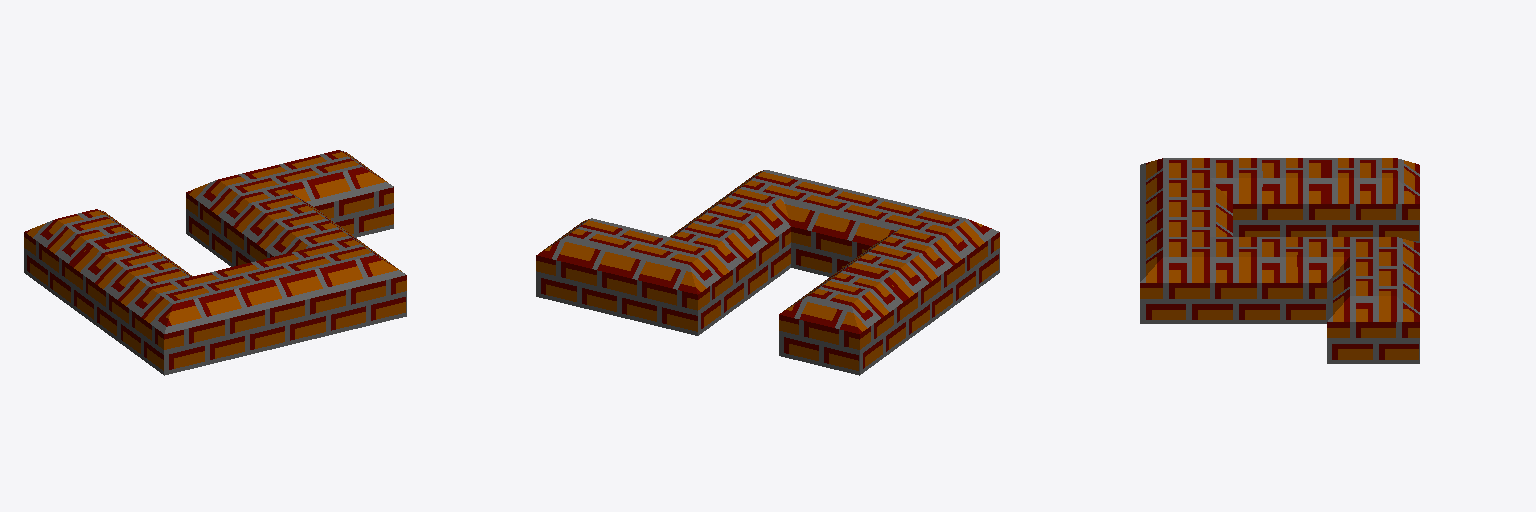
3 renders of one model, left to right at view 1: azimuth 30°, elevation 25°; view 2: azimuth 150°, elevation 25°; view 3: azimuth 270°, elevation 25°, orthographic.
Parts seen in each view (by area): view 1: Muros2; view 2: Muros2; view 3: Muros2.
Part boxes in pixels (bbox=[...]): Muros2: bbox=[24, 150, 406, 375]; Muros2: bbox=[536, 170, 999, 375]; Muros2: bbox=[1140, 158, 1419, 363].
Size of the model in its own units: 0.2556 by 0.0438 by 0.1917.
Materials: 1 (1 with a texture image).